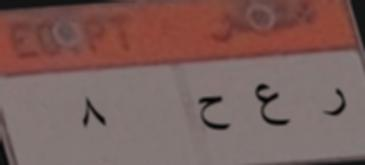7aa: (192, 89, 234, 144)
8: (69, 88, 108, 137)
ain: (245, 76, 297, 138)
raa: (316, 80, 353, 130)
